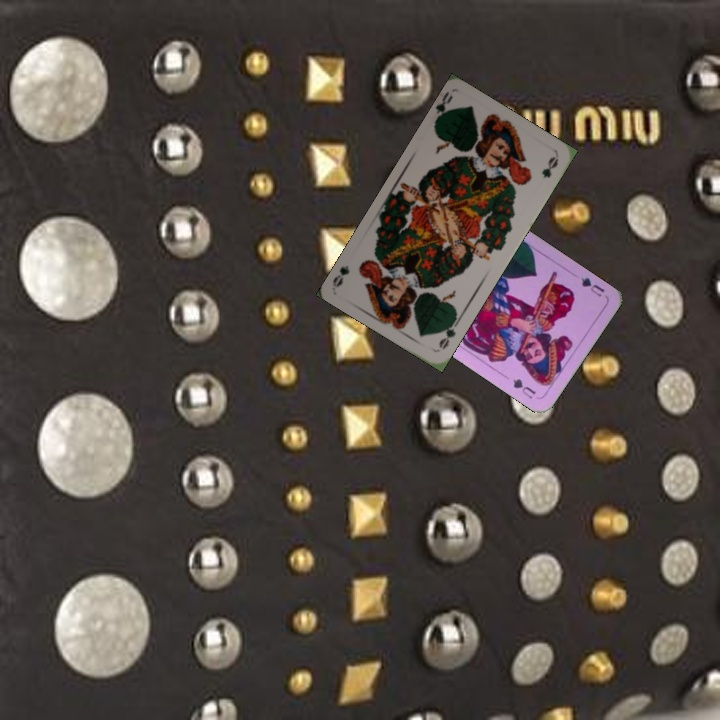GO: (430, 89, 456, 128), (435, 315, 462, 352)
GU: (577, 273, 607, 300)
